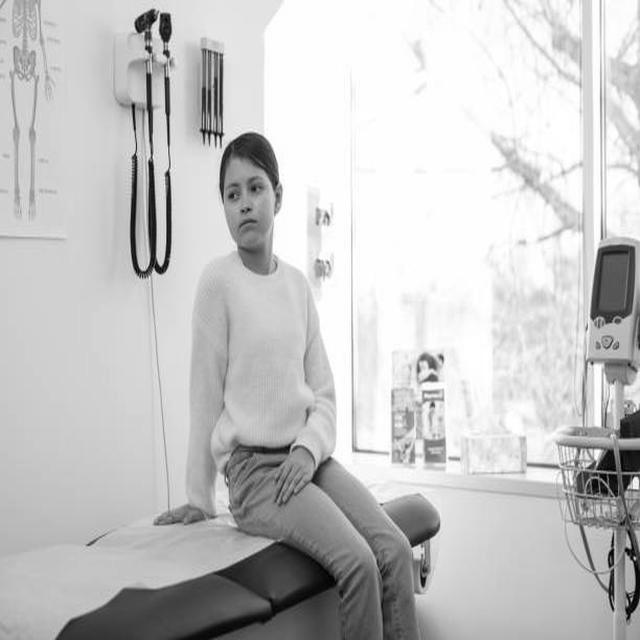Fear: (224, 160, 268, 250)
